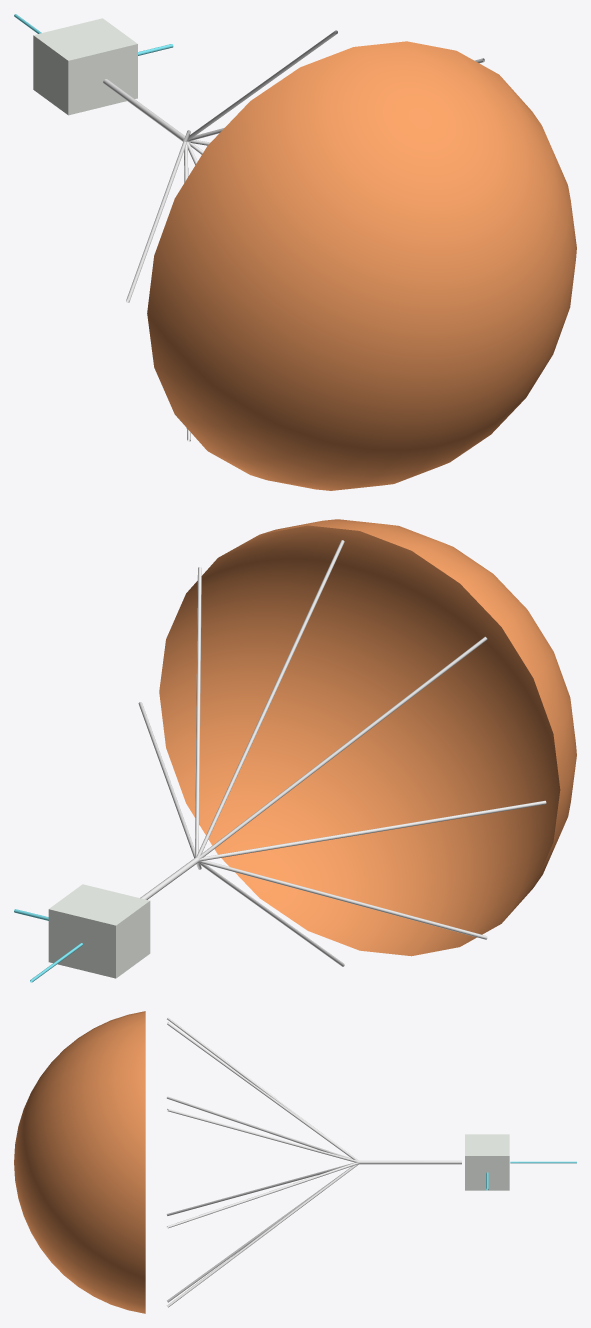
File: parachute_descent.glb
The picture shows the model from 3 angles, top to bottom: view 1: azimuth 30°, elevation 25°; view 2: azimuth 150°, elevation 25°; view 3: azimuth 270°, elevation 25°; orthographic projection. The views are drawn at different scales.
Parts seen in each view (by area): view 1: RootAssembly; view 2: RootAssembly; view 3: RootAssembly.
Part boxes in pixels (left/top/right/bottom): RootAssembly: left=14, top=14, right=576, bottom=490; RootAssembly: left=14, top=519, right=576, bottom=982; RootAssembly: left=14, top=1011, right=576, bottom=1313.
Bounding box in the file's own units: 2.42 × 2.42 × 4.4.
